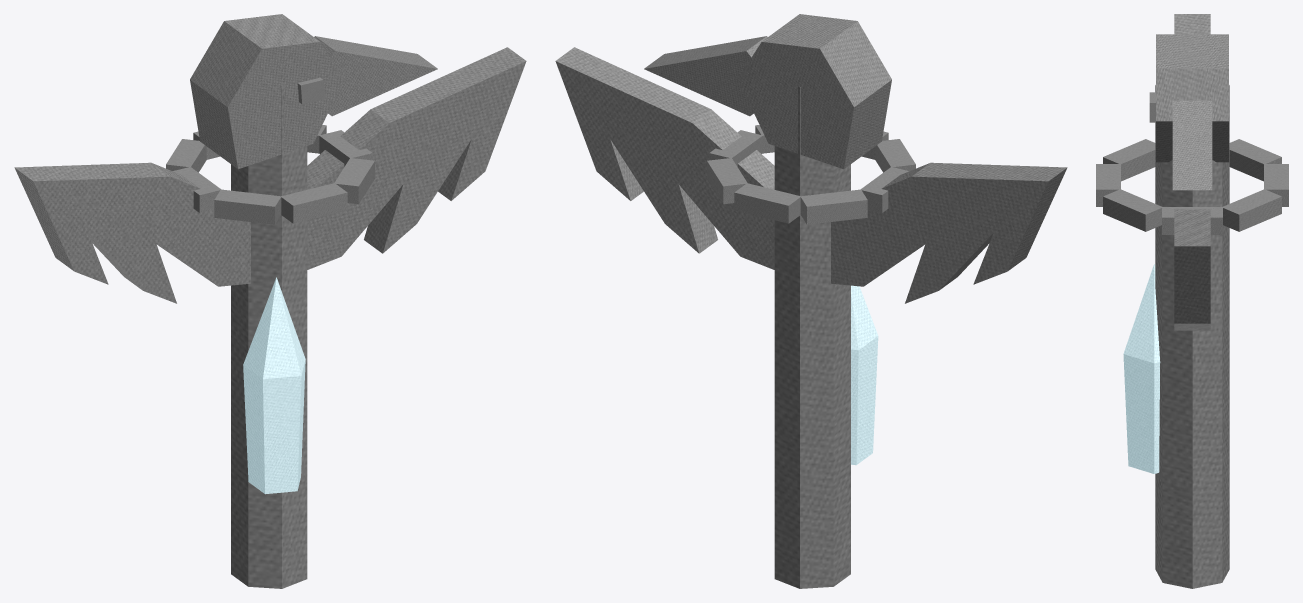
The model's file is spirit-fetish-raven.glb.
The picture shows the model from 3 angles, left to right: view 1: azimuth 30°, elevation 25°; view 2: azimuth 150°, elevation 25°; view 3: azimuth 270°, elevation 25°; orthographic projection. The views are drawn at different scales.
Visible parts, largest first — view 1: right-wing, left-wing, spine, raven-skull, spirit-chip, beak, binding-3, binding-2, binding-1, binding-5, binding-0, binding-4; view 2: spine, right-wing, left-wing, raven-skull, beak, spirit-chip, binding-5, binding-6, binding-7, binding-3, binding-0, binding-4; view 3: spine, raven-skull, spirit-chip, right-wing, beak, binding-1, binding-7, binding-3, binding-5, binding-0, binding-2, binding-6 (+1 smaller).
Boxes of the visible parts, box(x1,y1,x2,y2) form: right-wing: box(307, 47, 526, 269); left-wing: box(14, 162, 250, 303); spine: box(231, 86, 307, 588); raven-skull: box(190, 14, 343, 169); spirit-chip: box(243, 277, 305, 494); beak: box(314, 36, 437, 116); binding-3: box(214, 189, 281, 224); binding-2: box(281, 183, 347, 223); binding-1: box(334, 158, 374, 204); binding-5: box(166, 139, 206, 172); binding-0: box(319, 130, 372, 166); binding-4: box(173, 167, 221, 212); spine: box(774, 86, 850, 588); right-wing: box(555, 47, 774, 269); left-wing: box(831, 162, 1067, 303); raven-skull: box(738, 14, 891, 169); beak: box(644, 36, 767, 116); spirit-chip: box(851, 285, 878, 465); binding-5: box(800, 189, 867, 224); binding-6: box(734, 183, 800, 223); binding-7: box(707, 158, 747, 204); binding-3: box(875, 139, 915, 172); binding-0: box(709, 130, 762, 166); binding-4: box(860, 167, 908, 212); spine: box(1155, 85, 1229, 588); raven-skull: box(1156, 34, 1228, 162); spirit-chip: box(1123, 264, 1160, 473); right-wing: box(1174, 209, 1210, 330); beak: box(1172, 100, 1212, 190); binding-1: box(1103, 189, 1162, 231); binding-7: box(1223, 189, 1281, 231); binding-3: box(1103, 139, 1155, 181); binding-5: box(1229, 139, 1281, 181); binding-0: box(1162, 207, 1222, 234); binding-2: box(1096, 164, 1120, 206); binding-6: box(1264, 164, 1288, 206).
Bounding box in the file's own units: 0.72 × 0.76 × 0.2525.
Materials: 6 (6 with a texture image).
